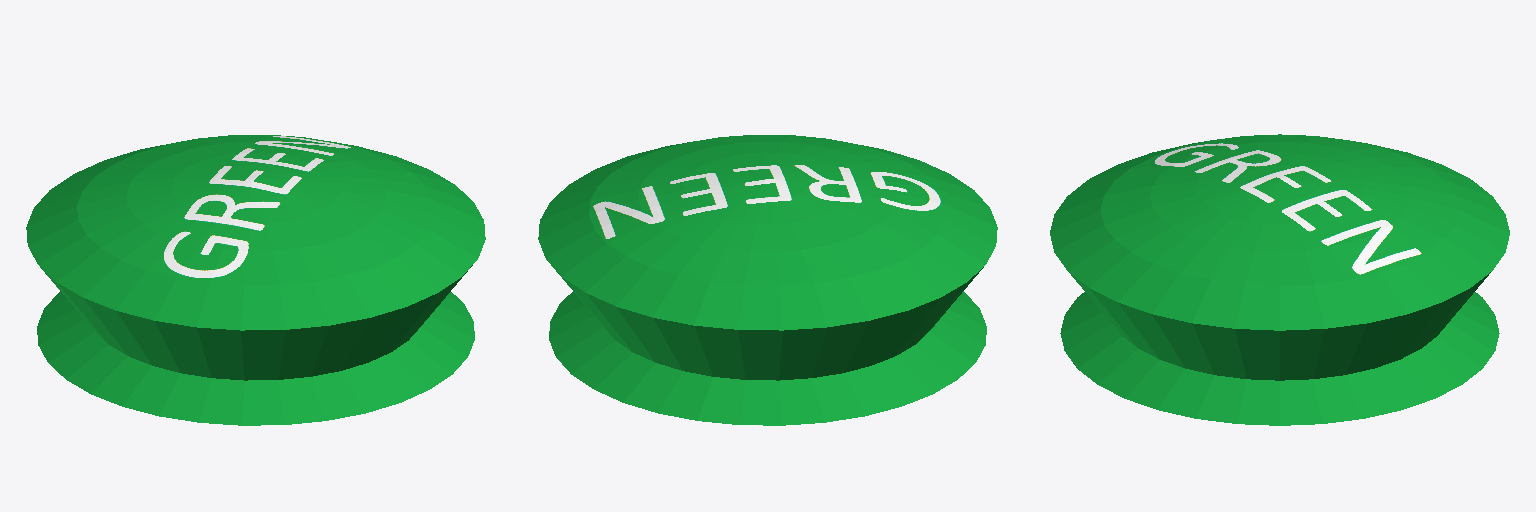
3 renders of one model, left to right at view 1: azimuth 30°, elevation 25°; view 2: azimuth 150°, elevation 25°; view 3: azimuth 270°, elevation 25°, orthographic.
Parts seen in each view (by area): view 1: Sphere; view 2: Sphere; view 3: Sphere.
Part boxes in pixels (bbox=[...]): Sphere: bbox=[26, 135, 485, 425]; Sphere: bbox=[538, 135, 997, 425]; Sphere: bbox=[1050, 134, 1509, 425].
Size of the model in its own units: 2.06 by 0.7606 by 2.06.
Materials: 1 (1 with a texture image).